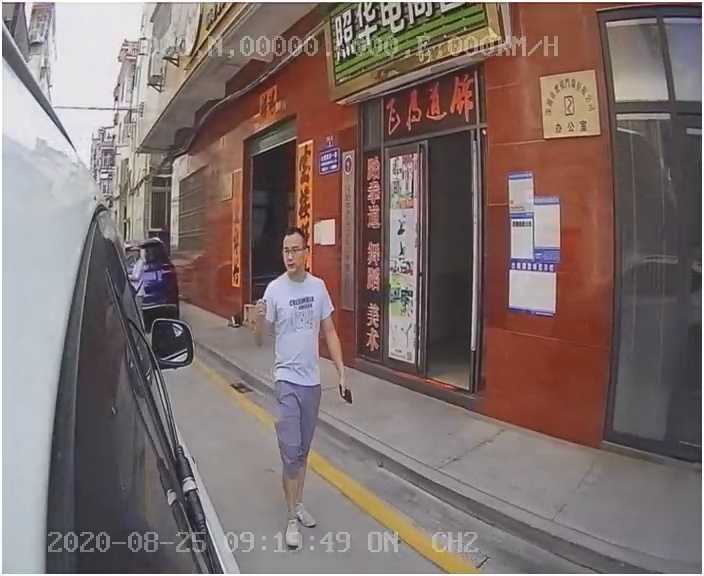person: (247, 229, 356, 546)
